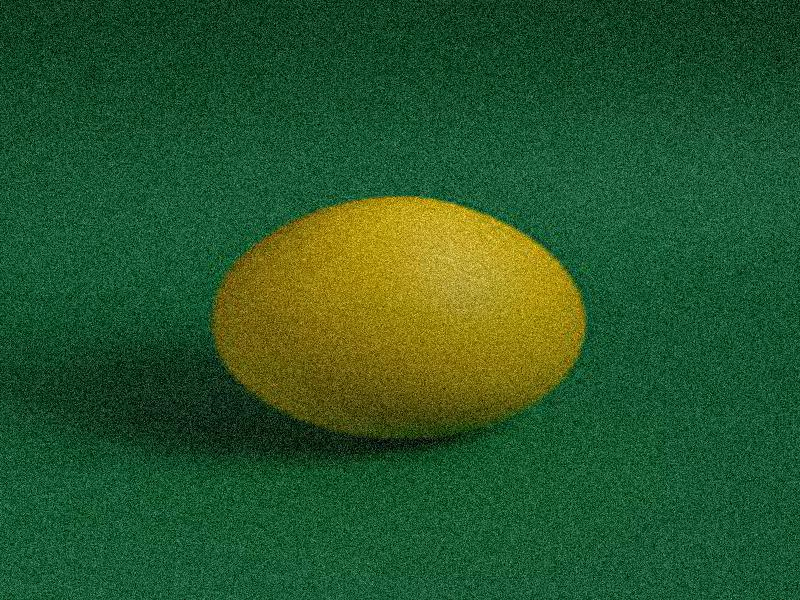Eggs: (223, 194, 590, 441)
